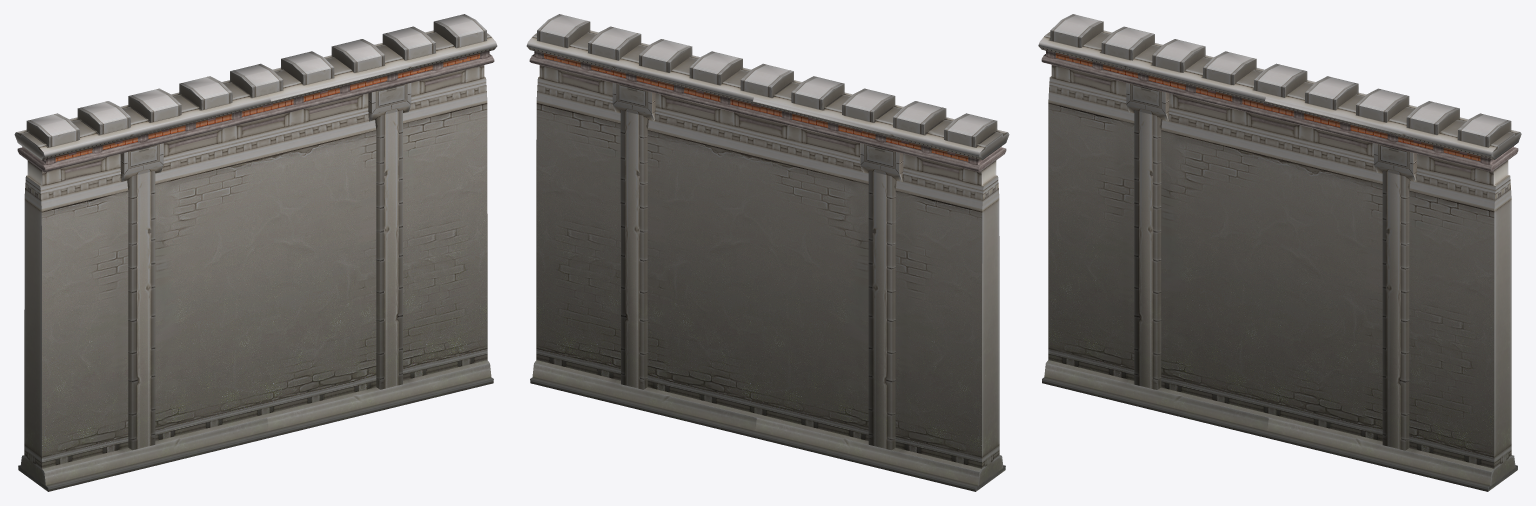
File: mod_zlc_jianzhu028_xy.FBX
The picture shows the model from 3 angles, left to right: view 1: azimuth 30°, elevation 25°; view 2: azimuth 150°, elevation 25°; view 3: azimuth 330°, elevation 25°; orthographic projection.
Parts seen in each view (by area): view 1: mod_zlc_jianzhu028_xy; view 2: mod_zlc_jianzhu028_xy; view 3: mod_zlc_jianzhu028_xy.
Boxes of the visible parts, x1=… form: mod_zlc_jianzhu028_xy: x1=14, y1=14, x2=497, y2=491; mod_zlc_jianzhu028_xy: x1=526, y1=14, x2=1009, y2=491; mod_zlc_jianzhu028_xy: x1=1038, y1=14, x2=1521, y2=491.
Bounding box in the file's own units: 11314 × 8440 × 1320.
